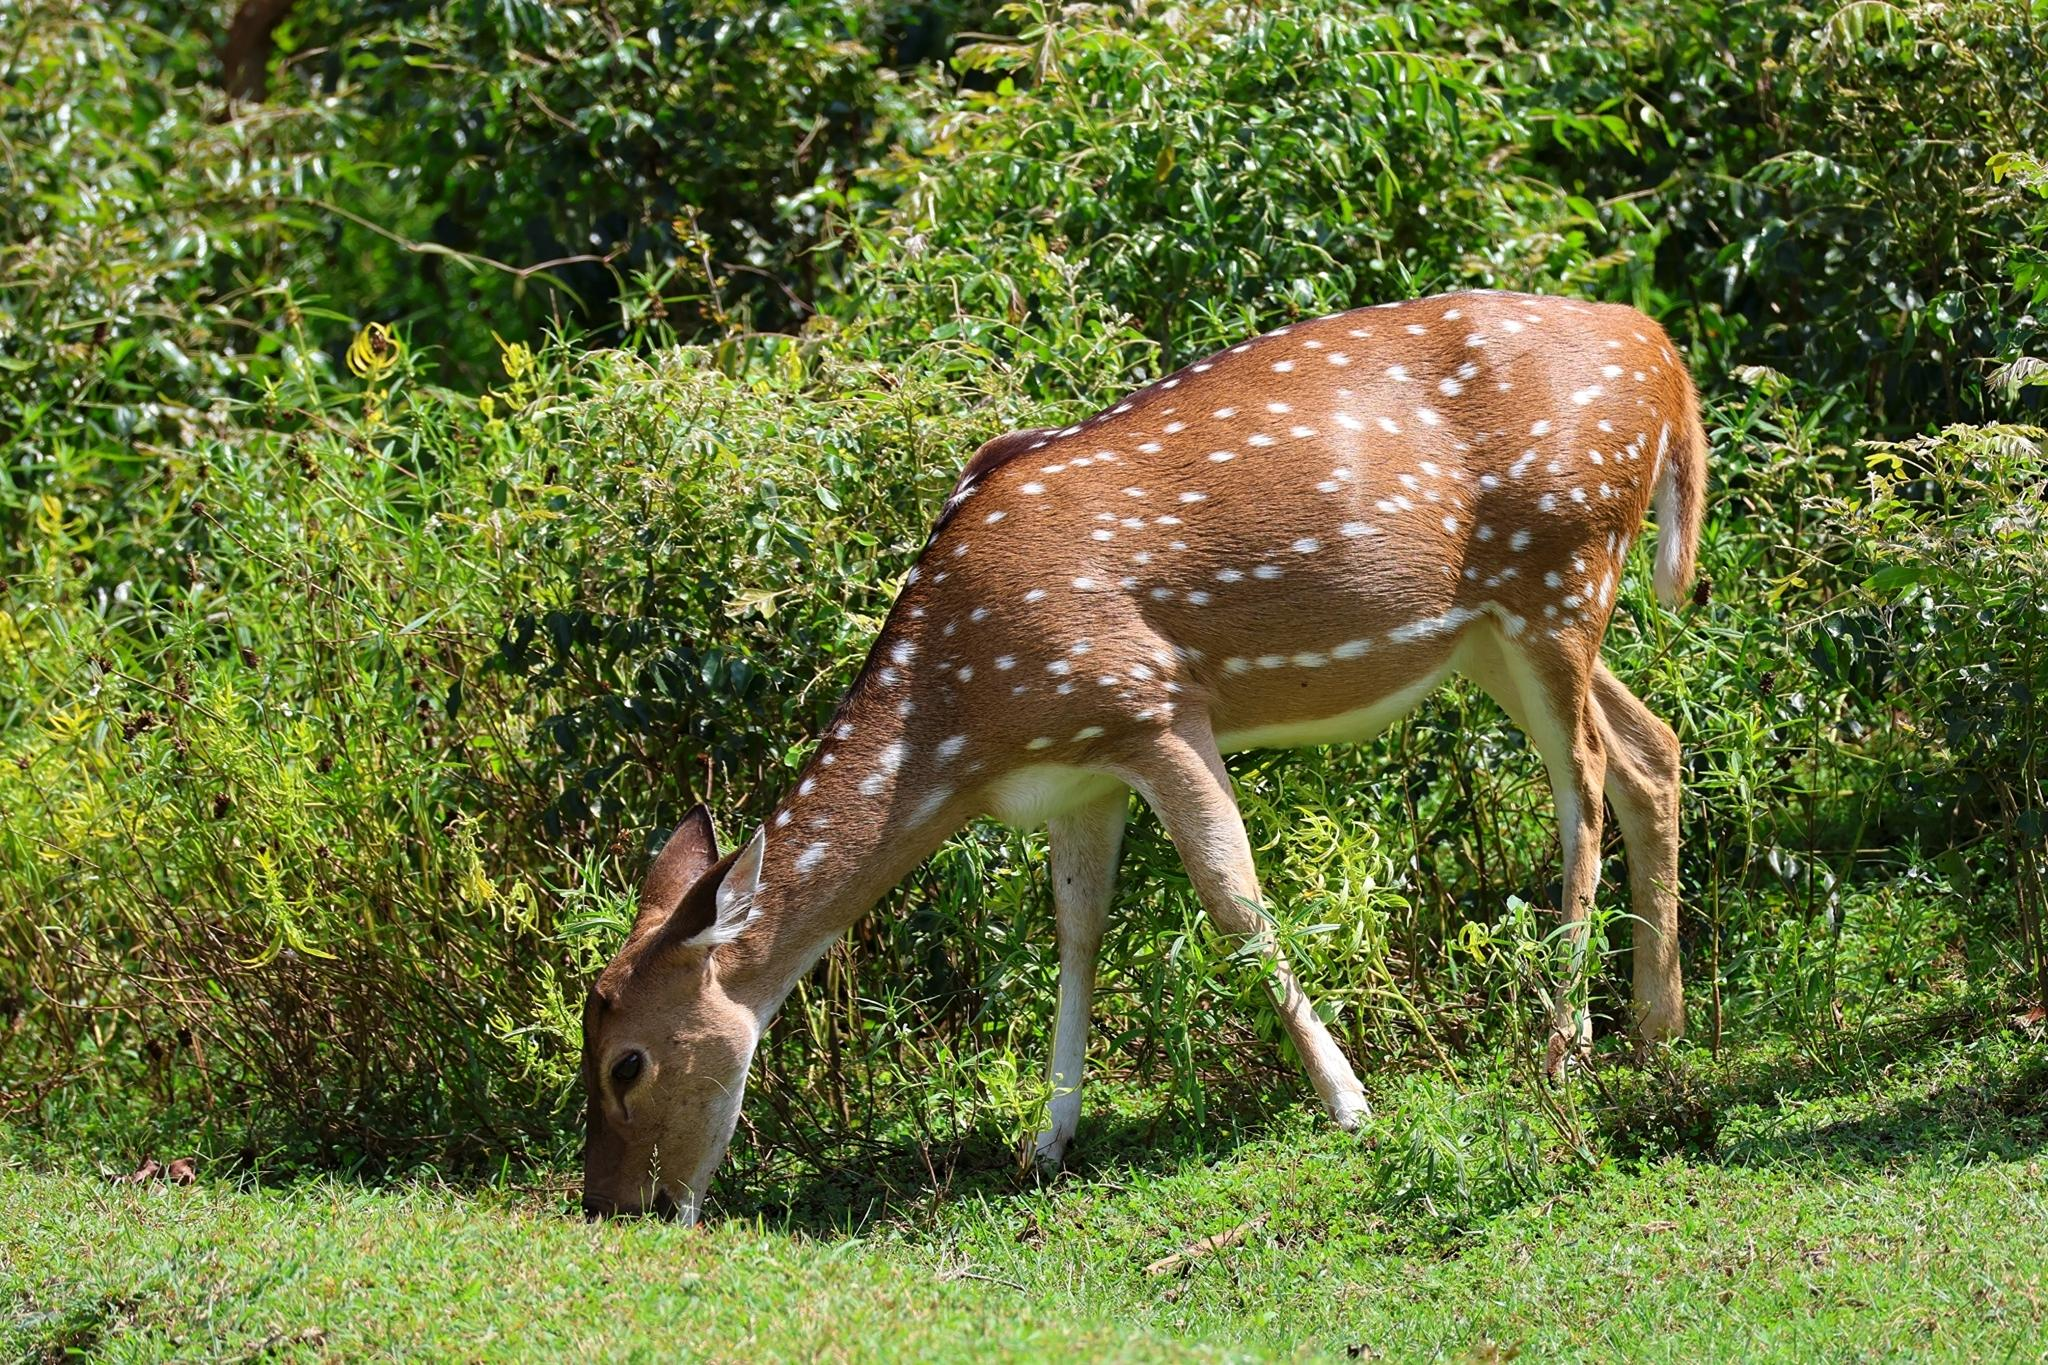Deer: (583, 291, 1707, 1210)
